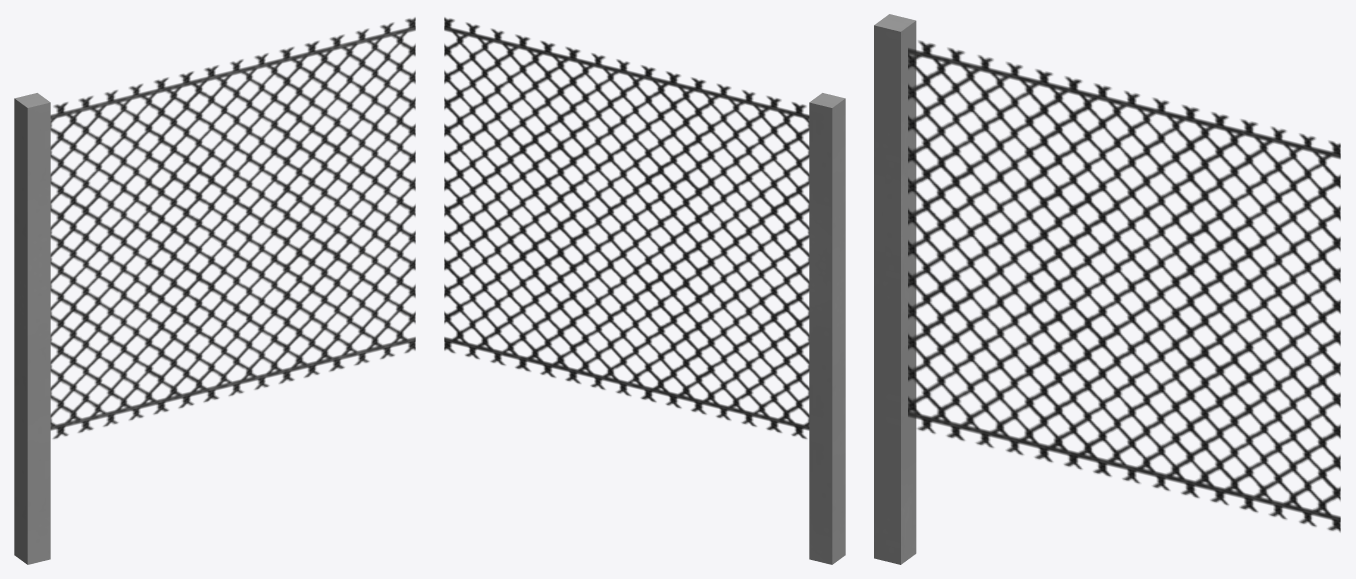
File: fence-chainlink-2wire-1m-cbj_LOD00.gltf
3 views of the same model, side by side, from view 1: azimuth 30°, elevation 25°; view 2: azimuth 150°, elevation 25°; view 3: azimuth 330°, elevation 25° (orthographic). The views are drawn at different scales.
Parts seen in each view (by area): view 1: post; view 2: post; view 3: post.
Part boxes in pixels (x1,y1,x2,y2): post: (14,17,415,564); post: (444,17,845,564); post: (874,14,1340,564).
Bounding box in the file's own units: 1.2 × 1.33 × 0.07.
